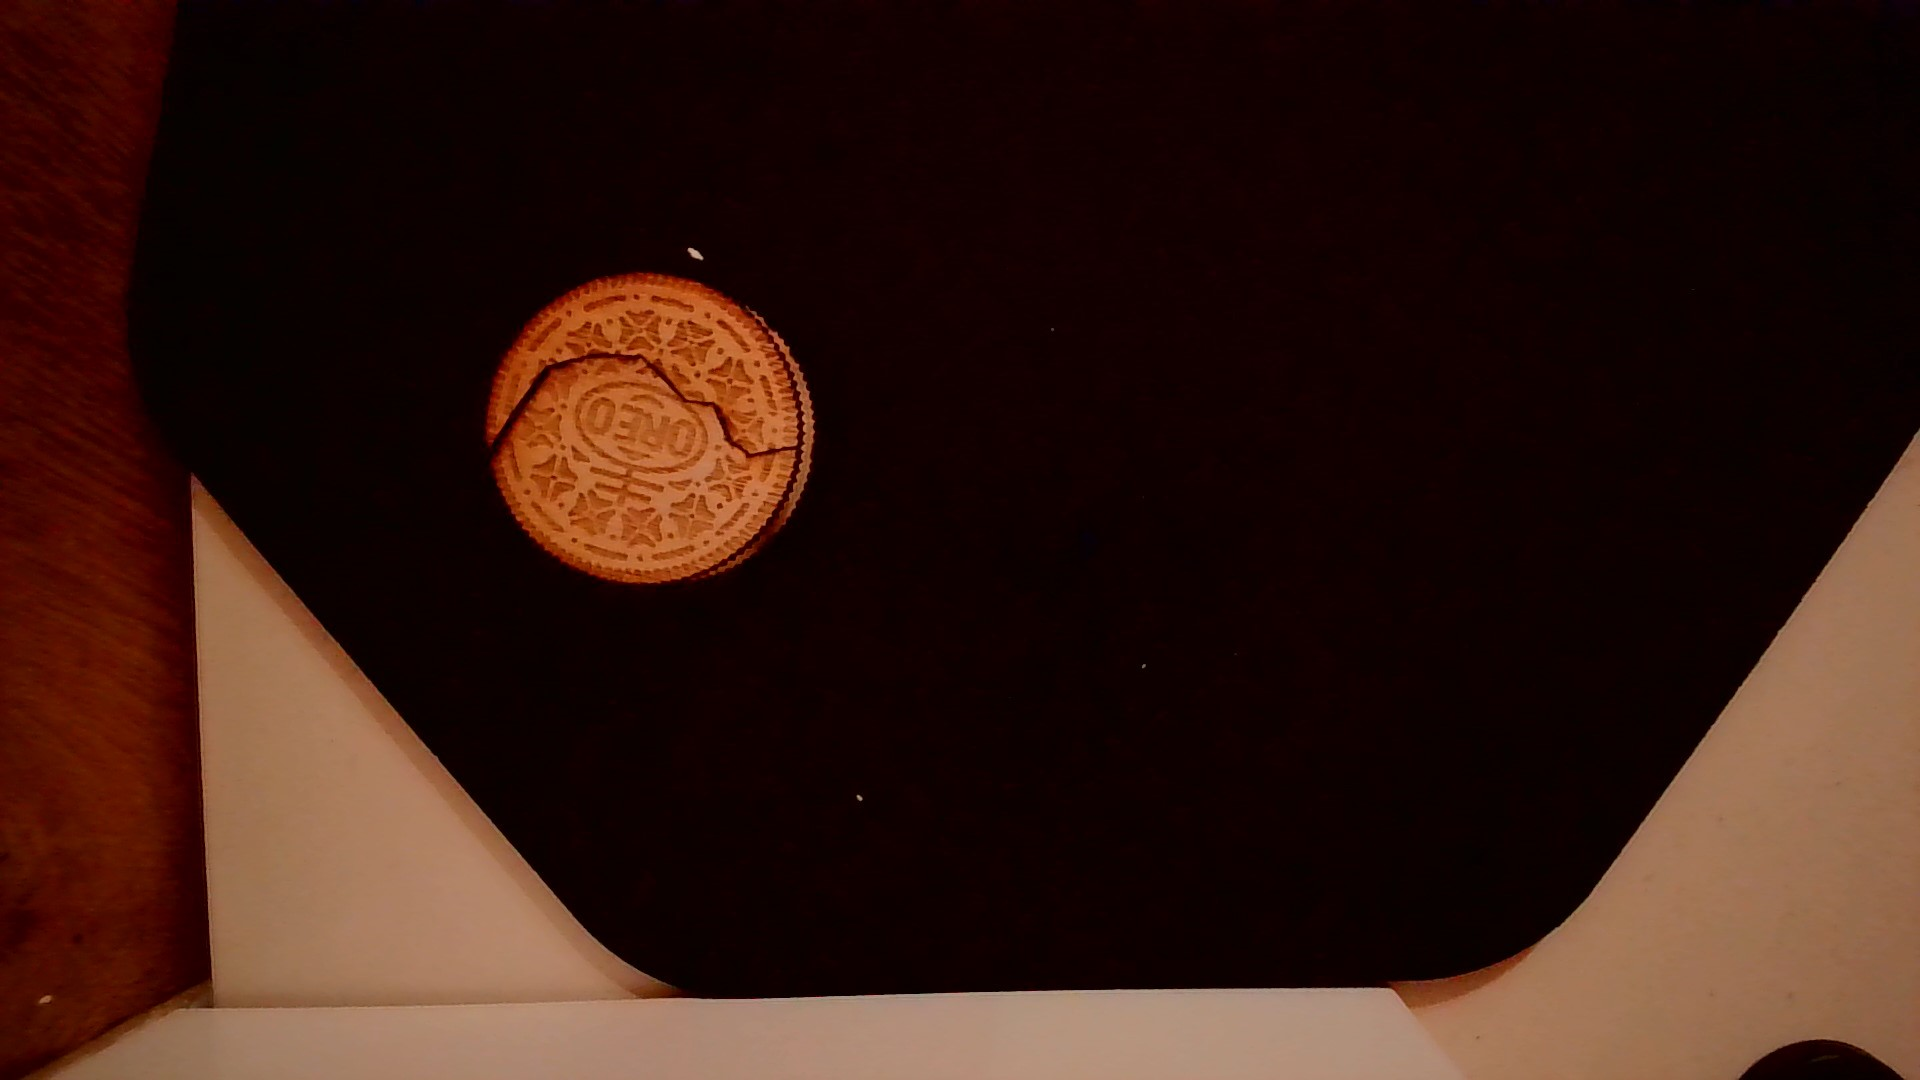Fissure: (475, 345, 815, 479)
Oréo: (471, 264, 818, 591)
